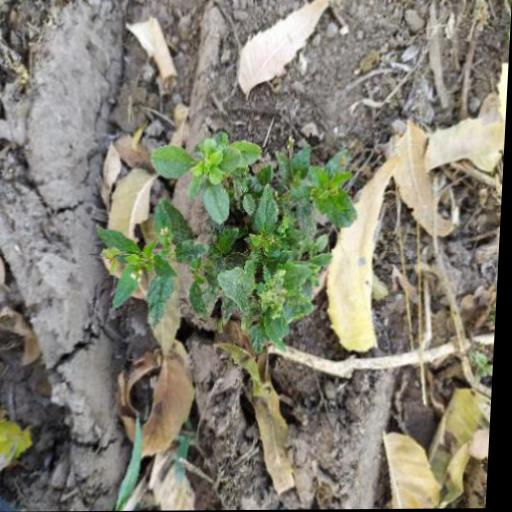weed: (79, 135, 365, 348)
